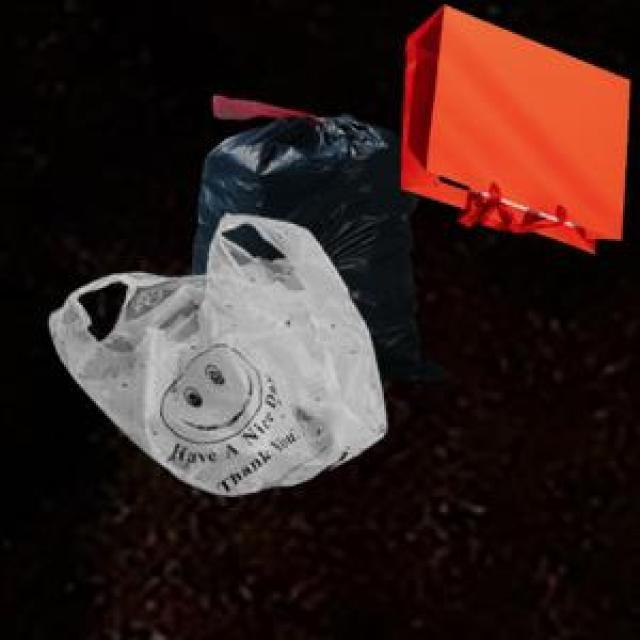miscellaneous trash: (188, 92, 446, 376)
paper: (397, 2, 625, 250)
